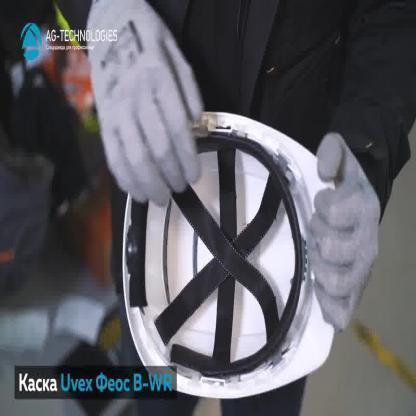gloves: (86, 0, 203, 207), (305, 129, 380, 334)
helmet: (120, 108, 339, 402)
